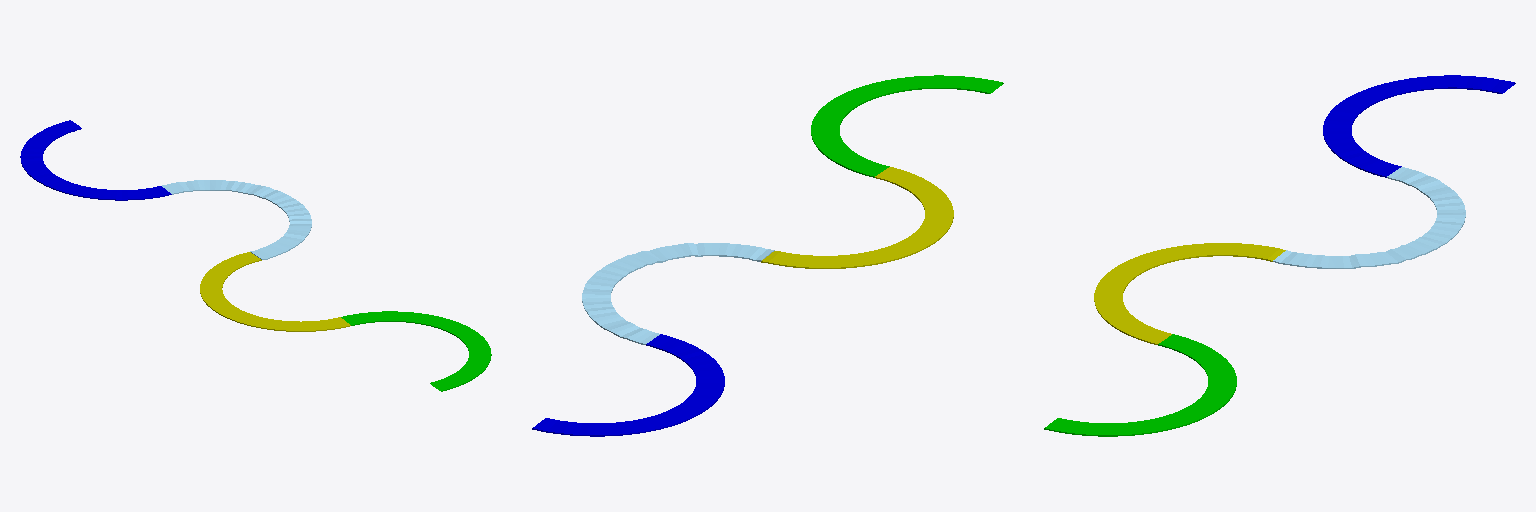
URDF robot description (double_s_wave_terrain):
<?xml version="1.0"?>
<robot name="double_s_wave_terrain">

  <!-- Base link (唯一的根节点) -->
  <link name="base_link">
    <inertial>
      <mass value="0.0"/>
      <inertia ixx="0.0" ixy="0.0" ixz="0.0" 
               iyy="0.0" iyz="0.0" izz="0.0"/>
    </inertial>
  </link>

  <!-- Segment 0: Entry_Normal, friction=0.85 -->
  <link name="segment_0_Entry_Normal">
    <visual>
      <origin xyz="0 0 0" rpy="0 0 0"/>
      <geometry>
        <mesh filename="double_s_wave_segment_Entry_Normal.obj" scale="1.0 1.0 1.0"/>
      </geometry>
      <material name="mat_0">
        <color rgba="0.0 0.8 0.0 1.0"/>
      </material>
    </visual>
    
    <collision>
      <origin xyz="0 0 0" rpy="0 0 0"/>
      <geometry>
        <mesh filename="double_s_wave_segment_Entry_Normal.obj" scale="1.0 1.0 1.0"/>
      </geometry>
      <contact>
        <lateral_friction value="0.85"/>
        <rolling_friction value="0.085"/>
        <spinning_friction value="0.0425"/>
      </contact>
    </collision>
    
    <inertial>
      <mass value="0.0"/>
      <inertia ixx="0.0" ixy="0.0" ixz="0.0" 
               iyy="0.0" iyz="0.0" izz="0.0"/>
    </inertial>
  </link>
  
  <joint name="joint_0" type="fixed">
    <parent link="base_link"/>
    <child link="segment_0_Entry_Normal"/>
    <origin xyz="0 0 0" rpy="0 0 0"/>
  </joint>
  
  <!-- Segment 1: Gradient_Down, friction=0.50 -->
  <link name="segment_1_Gradient_Down">
    <visual>
      <origin xyz="0 0 0" rpy="0 0 0"/>
      <geometry>
        <mesh filename="double_s_wave_segment_Gradient_Down.obj" scale="1.0 1.0 1.0"/>
      </geometry>
      <material name="mat_1">
        <color rgba="0.8 0.8 0.0 1.0"/>
      </material>
    </visual>
    
    <collision>
      <origin xyz="0 0 0" rpy="0 0 0"/>
      <geometry>
        <mesh filename="double_s_wave_segment_Gradient_Down.obj" scale="1.0 1.0 1.0"/>
      </geometry>
      <contact>
        <lateral_friction value="0.5"/>
        <rolling_friction value="0.05"/>
        <spinning_friction value="0.025"/>
      </contact>
    </collision>
    
    <inertial>
      <mass value="0.0"/>
      <inertia ixx="0.0" ixy="0.0" ixz="0.0" 
               iyy="0.0" iyz="0.0" izz="0.0"/>
    </inertial>
  </link>
  
  <joint name="joint_1" type="fixed">
    <parent link="base_link"/>
    <child link="segment_1_Gradient_Down"/>
    <origin xyz="0 0 0" rpy="0 0 0"/>
  </joint>
  
  <!-- Segment 2: Ice_Zone, friction=0.25 -->
  <link name="segment_2_Ice_Zone">
    <visual>
      <origin xyz="0 0 0" rpy="0 0 0"/>
      <geometry>
        <mesh filename="double_s_wave_segment_Ice_Zone.obj" scale="1.0 1.0 1.0"/>
      </geometry>
      <material name="mat_2">
        <color rgba="0.7 0.9 1.0 0.8"/>
      </material>
    </visual>
    
    <collision>
      <origin xyz="0 0 0" rpy="0 0 0"/>
      <geometry>
        <mesh filename="double_s_wave_segment_Ice_Zone.obj" scale="1.0 1.0 1.0"/>
      </geometry>
      <contact>
        <lateral_friction value="0.25"/>
        <rolling_friction value="0.025"/>
        <spinning_friction value="0.0125"/>
      </contact>
    </collision>
    
    <inertial>
      <mass value="0.0"/>
      <inertia ixx="0.0" ixy="0.0" ixz="0.0" 
               iyy="0.0" iyz="0.0" izz="0.0"/>
    </inertial>
  </link>
  
  <joint name="joint_2" type="fixed">
    <parent link="base_link"/>
    <child link="segment_2_Ice_Zone"/>
    <origin xyz="0 0 0" rpy="0 0 0"/>
  </joint>
  
  <!-- Segment 3: Recovery_Zone, friction=0.75 -->
  <link name="segment_3_Recovery_Zone">
    <visual>
      <origin xyz="0 0 0" rpy="0 0 0"/>
      <geometry>
        <mesh filename="double_s_wave_segment_Recovery_Zone.obj" scale="1.0 1.0 1.0"/>
      </geometry>
      <material name="mat_3">
        <color rgba="0.0 0.0 0.9 1.0"/>
      </material>
    </visual>
    
    <collision>
      <origin xyz="0 0 0" rpy="0 0 0"/>
      <geometry>
        <mesh filename="double_s_wave_segment_Recovery_Zone.obj" scale="1.0 1.0 1.0"/>
      </geometry>
      <contact>
        <lateral_friction value="0.75"/>
        <rolling_friction value="0.07500000000000001"/>
        <spinning_friction value="0.037500000000000006"/>
      </contact>
    </collision>
    
    <inertial>
      <mass value="0.0"/>
      <inertia ixx="0.0" ixy="0.0" ixz="0.0" 
               iyy="0.0" iyz="0.0" izz="0.0"/>
    </inertial>
  </link>
  
  <joint name="joint_3" type="fixed">
    <parent link="base_link"/>
    <child link="segment_3_Recovery_Zone"/>
    <origin xyz="0 0 0" rpy="0 0 0"/>
  </joint>
  
</robot>

--- What the picture shows (computed from the rendered views, not written in the file) ---
Views: 3 orthographic renders of the robot side by side, from view 1: azimuth 30°, elevation 25°; view 2: azimuth 150°, elevation 25°; view 3: azimuth 330°, elevation 25°.
Robot: double_s_wave_terrain — 5 links, 4 joints (4 fixed); root link base_link; default pose: all joints at 0.
Visible links, largest first — view 1: segment_1_Gradient_Down, segment_3_Recovery_Zone, segment_2_Ice_Zone, segment_0_Entry_Normal; view 2: segment_3_Recovery_Zone, segment_0_Entry_Normal, segment_1_Gradient_Down, segment_2_Ice_Zone; view 3: segment_0_Entry_Normal, segment_2_Ice_Zone, segment_3_Recovery_Zone, segment_1_Gradient_Down.
Link boxes in pixels (<box>): segment_1_Gradient_Down: <box>200,252,350,331</box>; segment_3_Recovery_Zone: <box>20,120,171,200</box>; segment_2_Ice_Zone: <box>162,180,311,259</box>; segment_0_Entry_Normal: <box>341,311,491,391</box>; segment_3_Recovery_Zone: <box>532,334,724,436</box>; segment_0_Entry_Normal: <box>811,75,1003,177</box>; segment_1_Gradient_Down: <box>761,167,953,268</box>; segment_2_Ice_Zone: <box>582,243,774,344</box>; segment_0_Entry_Normal: <box>1044,334,1236,436</box>; segment_2_Ice_Zone: <box>1273,167,1465,268</box>; segment_3_Recovery_Zone: <box>1323,75,1515,177</box>; segment_1_Gradient_Down: <box>1094,243,1285,344</box>.
Size in the robot's own frame: 17.99 by 66 by 0.2527 metres.
Meshes: 4 distinct files referenced, 4 mesh visuals loaded (4 OBJ).
